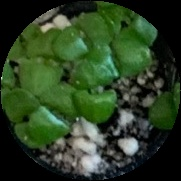Basil: (17, 33, 59, 97), (73, 62, 114, 123), (6, 91, 47, 150), (87, 43, 148, 77), (55, 18, 105, 56), (146, 83, 181, 135), (38, 86, 72, 137)
